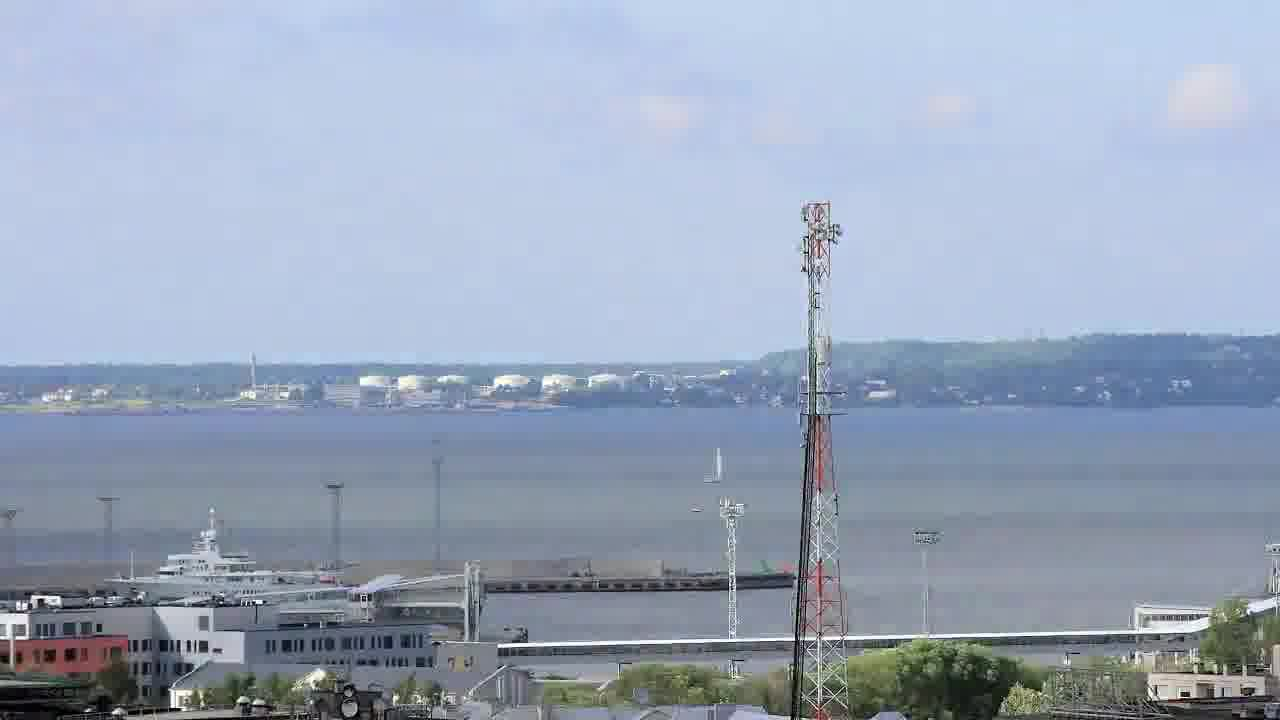type-2: (691, 430, 748, 498)
type-3: (84, 515, 355, 603)
